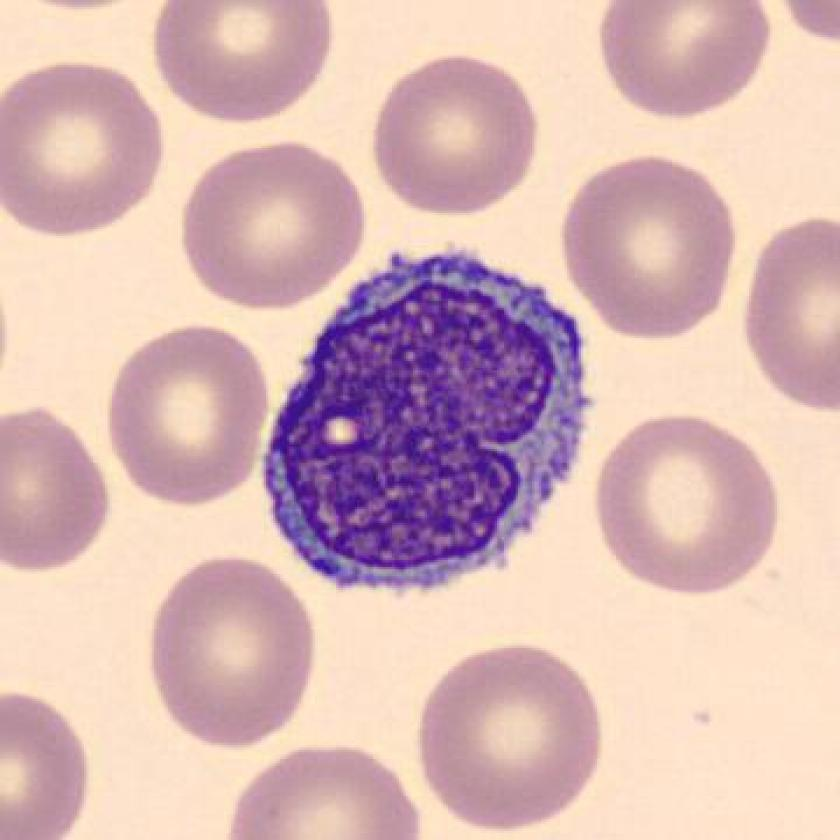monocyte: (241, 228, 610, 621)
